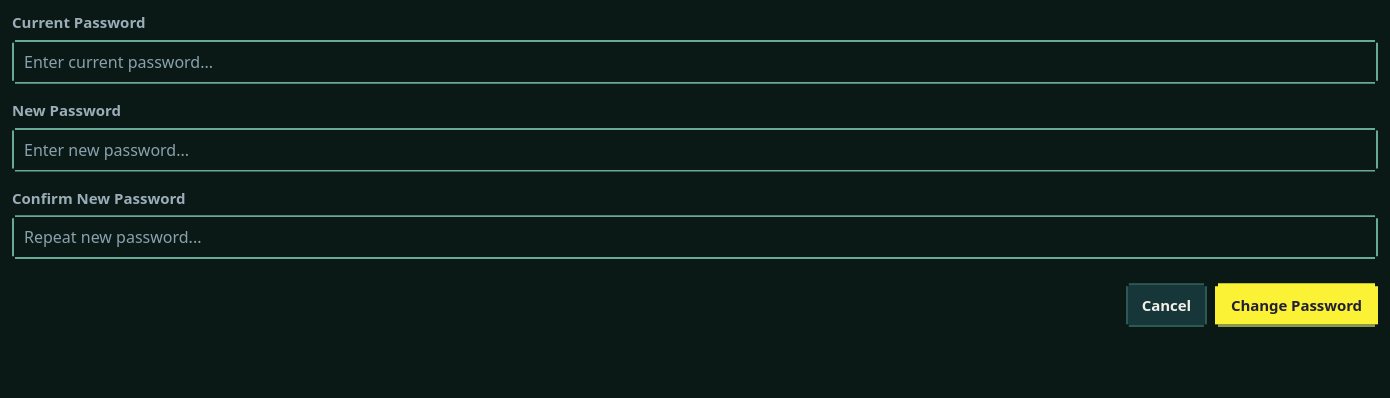
Scenario: ChangePasswordForm › a 401 shows "Current password is incorrect" and does not close
Type "wrong" into the password field labelled "Current Password".
click(695, 62); type("wrong")  # box [12,40,1378,84]
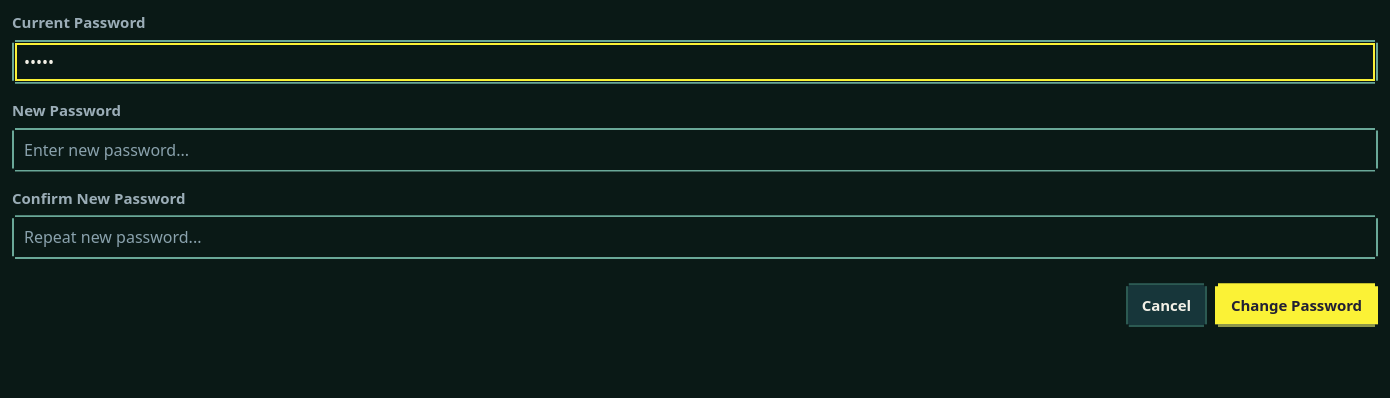
Type "new-secret" into the password field labelled "New Password".
click(695, 150); type("new-secret")  # box [12,128,1378,172]
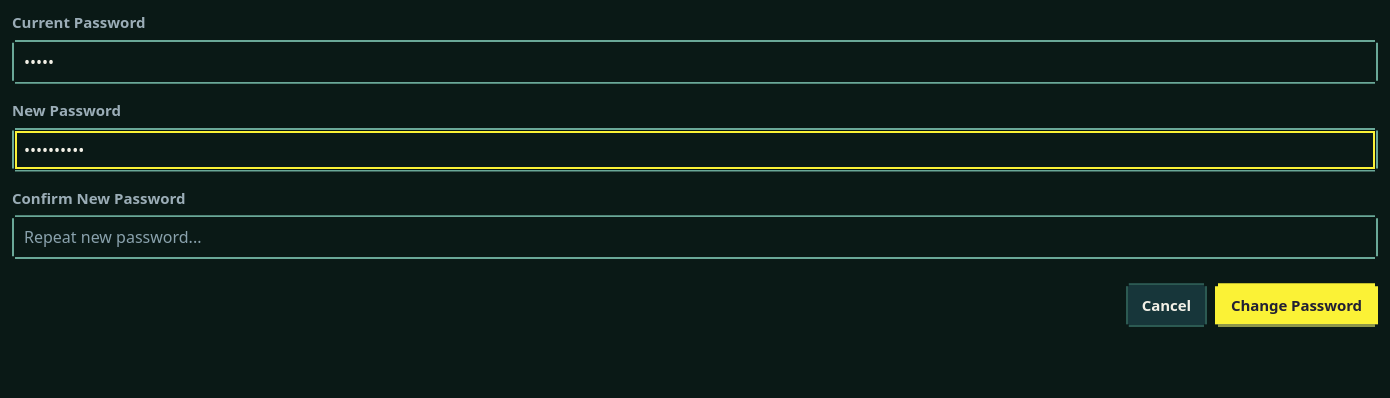
Type "new-secret" into the password field labelled "Confirm New Password".
click(695, 237); type("new-secret")  # box [12,215,1378,259]
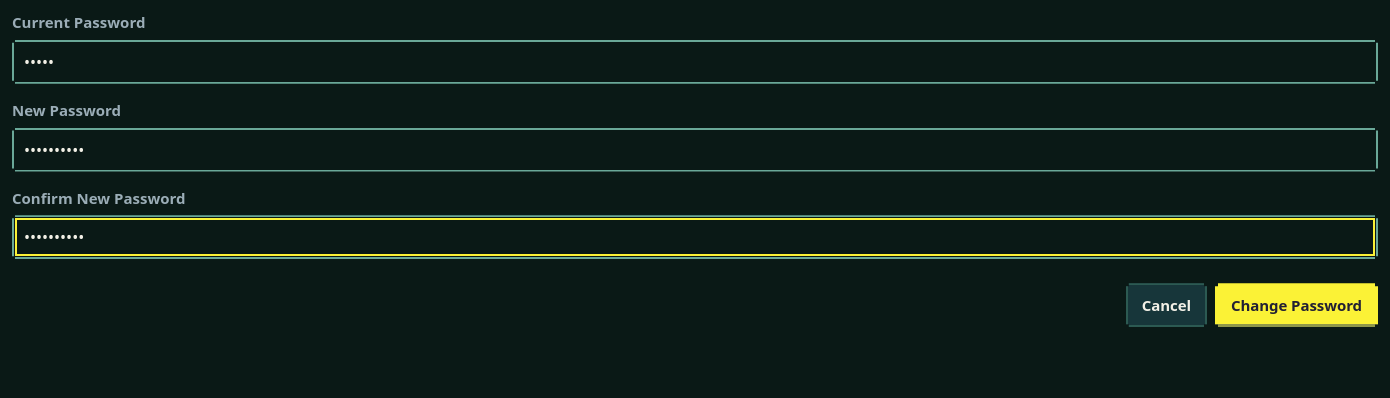
Click the button "Change Password".
click(1296, 305)  # box [1215,283,1378,327]
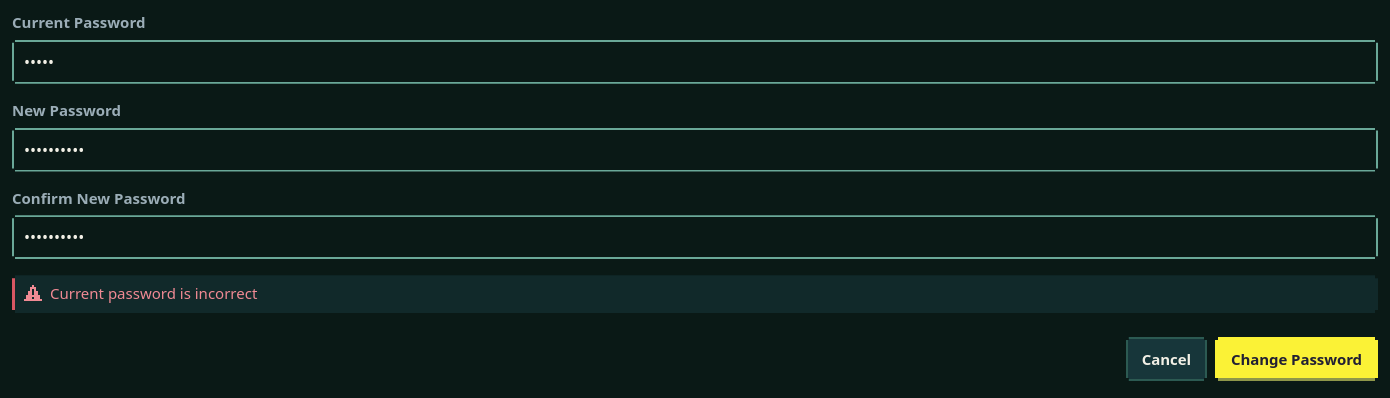
Now the text "Current password is incorrect" is shown, box [50,283,257,305]
